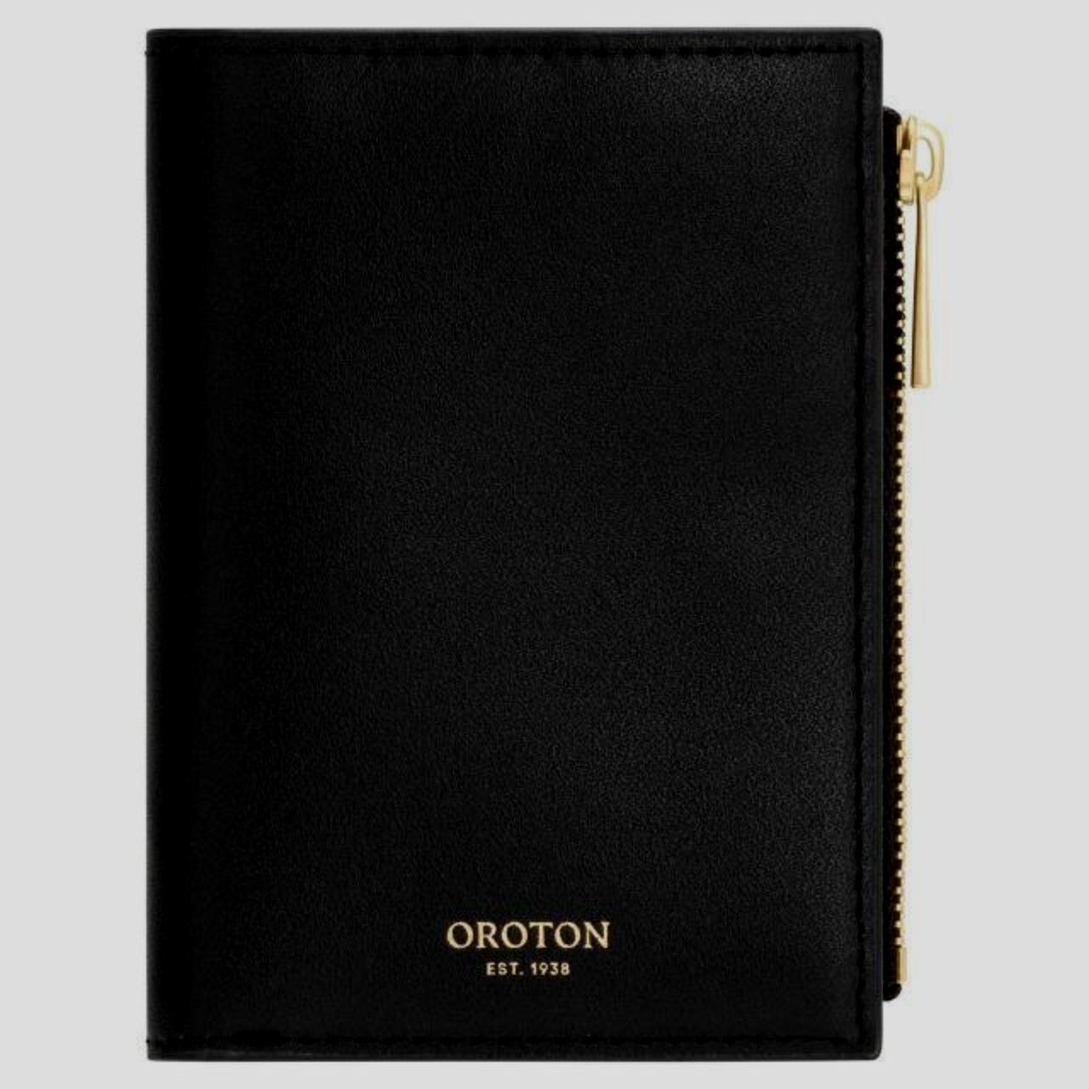wallet: (123, 14, 949, 1064)
